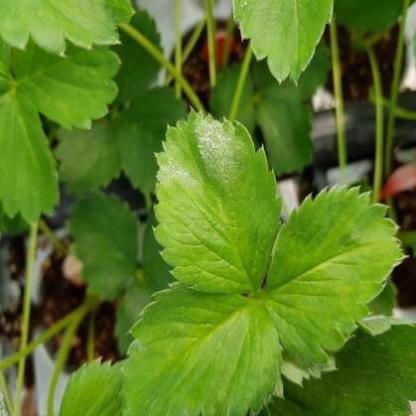Strawberry_Powdery_Mildew_Leaf: (152, 104, 284, 296)
